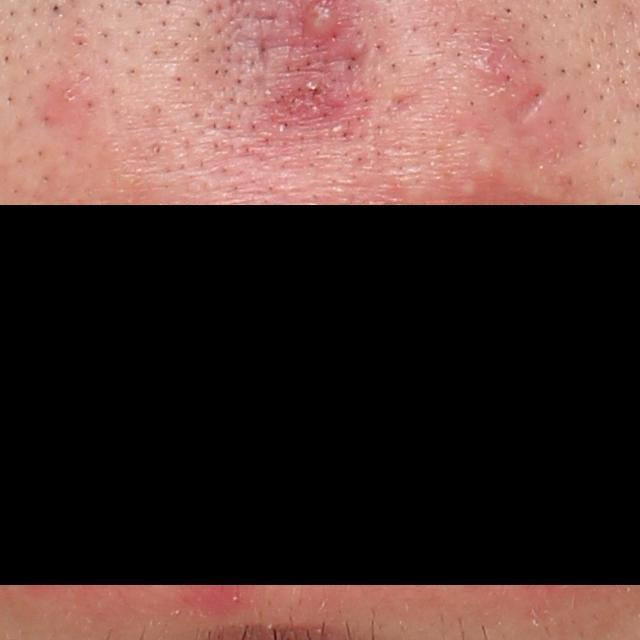atrophic_scar: (513, 84, 552, 126)
